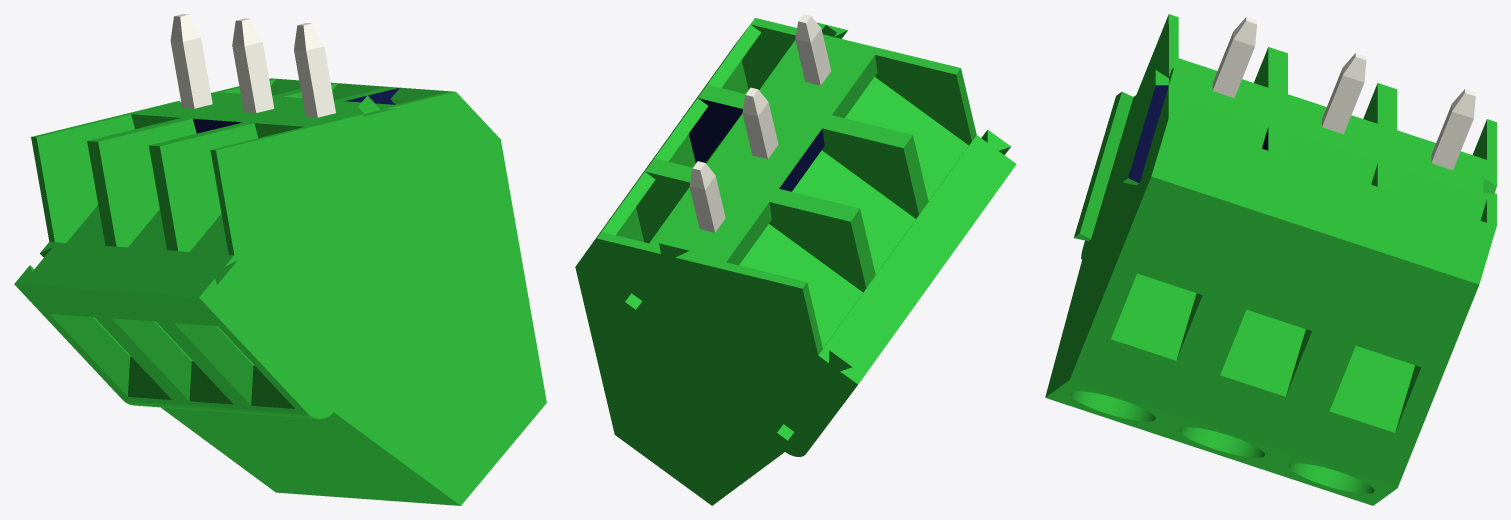
The model's file is EBoxNewAsm_stp_1_UTeensyBreakout_1_stp_1_EK500A_03P_stp_14_solid1.obj.
The picture shows the model from 3 angles, left to right: view 1: azimuth 30°, elevation 25°; view 2: azimuth 150°, elevation 25°; view 3: azimuth 270°, elevation 25°; orthographic projection. The views are drawn at different scales.
Visible parts, largest first — view 1: mesh10229, mesh10207, mesh10338, mesh10265, mesh10256, mesh10263, mesh10249, mesh10294, mesh10239, mesh10232, mesh10351, mesh10342 (+18 smaller); view 2: mesh10270, mesh10294, mesh10265, mesh10254, mesh10262, mesh10248, mesh10251, mesh10258, mesh10244, mesh10278, mesh10290, mesh10284 (+19 smaller); view 3: mesh10322, mesh10275, mesh10294, mesh10229, mesh10206, mesh10328, mesh10333, mesh10323, mesh10287, mesh10280, mesh10292, mesh10236 (+9 smaller).
Part boxes in pixels (box(x1,y1,x2,y2)): mesh10229: box(199, 92, 546, 505); mesh10207: box(161, 407, 460, 505); mesh10338: box(14, 284, 306, 413); mesh10265: box(14, 242, 236, 297); mesh10256: box(98, 118, 196, 247); mesh10263: box(36, 114, 134, 242); mesh10249: box(160, 123, 258, 251); mesh10294: box(31, 78, 455, 150); mesh10239: box(217, 260, 345, 400); mesh10232: box(362, 108, 468, 208); mesh10351: box(112, 318, 191, 400); mesh10342: box(174, 323, 253, 405); mesh10270: box(575, 238, 857, 505); mesh10294: box(597, 18, 960, 288); mesh10265: box(818, 130, 1016, 384); mesh10254: box(792, 150, 915, 274); mesh10262: box(739, 224, 862, 348); mesh10248: box(845, 77, 968, 200); mesh10251: box(822, 128, 918, 218); mesh10258: box(769, 202, 866, 292); mesh10244: box(875, 55, 971, 145); mesh10278: box(636, 171, 689, 242); mesh10290: box(689, 98, 742, 162); mesh10284: box(741, 24, 795, 89); mesh10322: box(1070, 176, 1478, 487); mesh10275: box(1151, 118, 1496, 284); mesh10294: box(1168, 14, 1496, 225); mesh10229: box(1045, 15, 1168, 397); mesh10206: box(1045, 380, 1397, 505); mesh10328: box(1220, 309, 1305, 396); mesh10333: box(1329, 346, 1414, 432); mesh10323: box(1111, 273, 1196, 360); mesh10287: box(1178, 97, 1267, 148); mesh10280: box(1397, 169, 1486, 220); mesh10292: box(1288, 133, 1377, 184); mesh10236: box(1079, 92, 1133, 238).
Bounding box in the file's own units: 0.0139 × 0.0223 × 0.0194.
